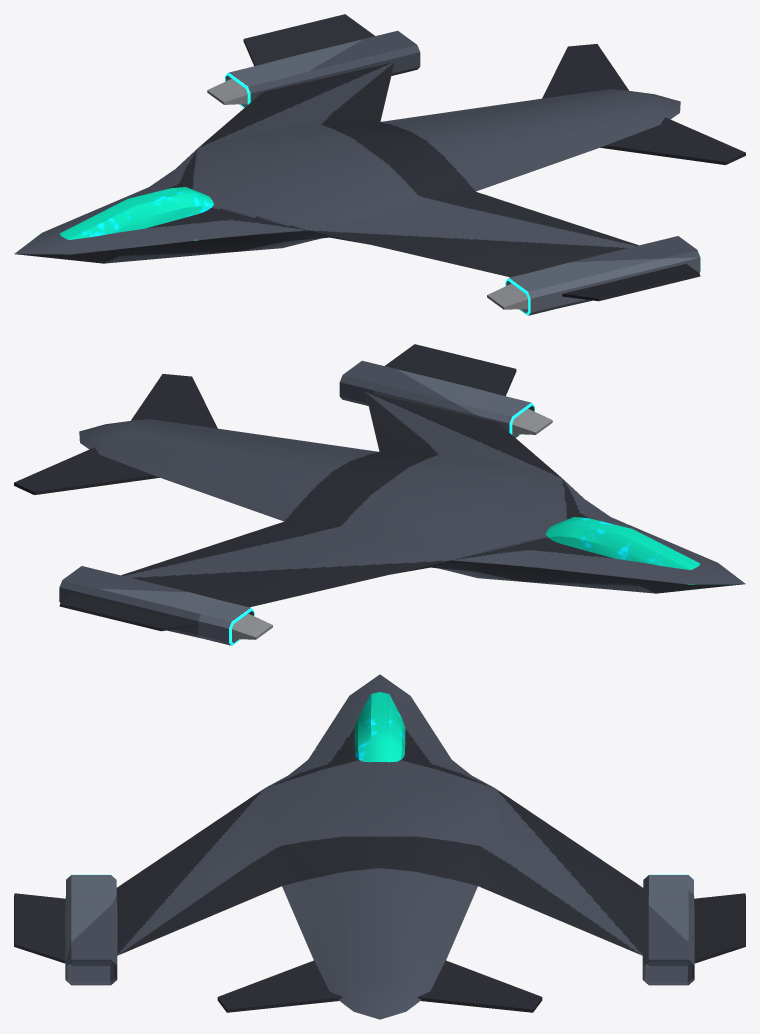
The model's file is r_spaceship.fbx.
3 renders of one model, top to bottom at view 1: azimuth 30°, elevation 25°; view 2: azimuth 150°, elevation 25°; view 3: azimuth 270°, elevation 25°, orthographic. The views are drawn at different scales.
Visible parts, largest first — view 1: r_spaceship; view 2: r_spaceship; view 3: r_spaceship.
Boxes of the visible parts, <box> form: r_spaceship: <box>14,14,745,315</box>; r_spaceship: <box>14,344,745,645</box>; r_spaceship: <box>14,674,745,1019</box>.
Size of the model in its own units: 3059 by 321 by 2824.
Materials: 1 (1 with a texture image).
